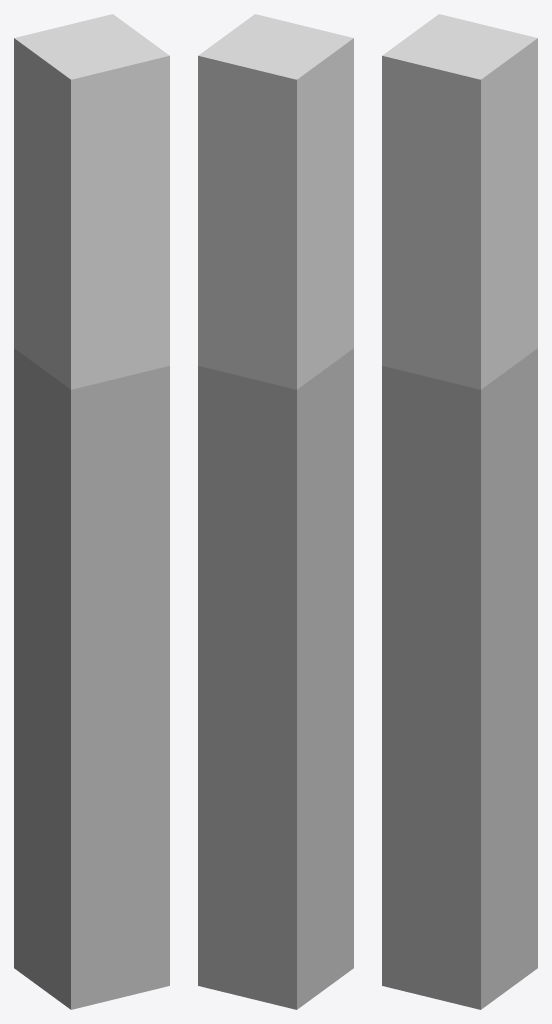
File: ConstructionMaterials-91.obj
3 views of the same model, side by side, from view 1: azimuth 30°, elevation 25°; view 2: azimuth 150°, elevation 25°; view 3: azimuth 330°, elevation 25° (orthographic).
Bounding box in the file's own units: 0.1 × 0.9 × 0.1.
1 material, 1 textured.
